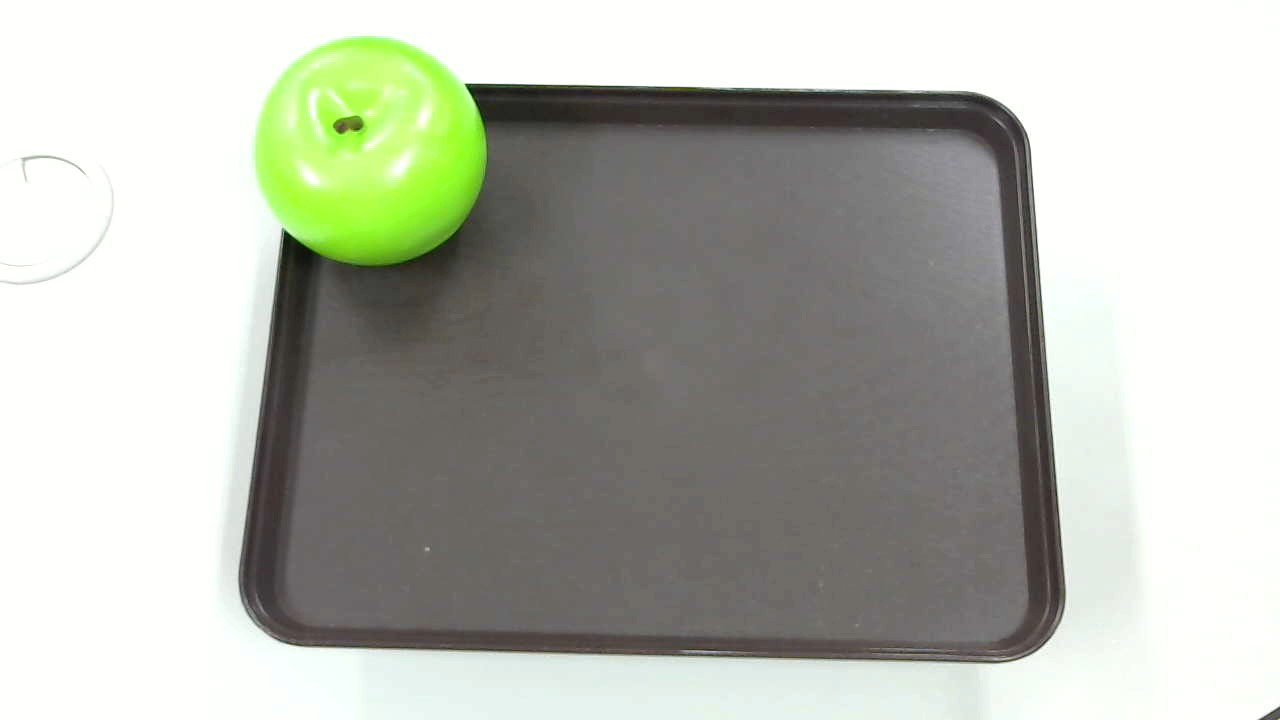green apple: (257, 35, 490, 266)
